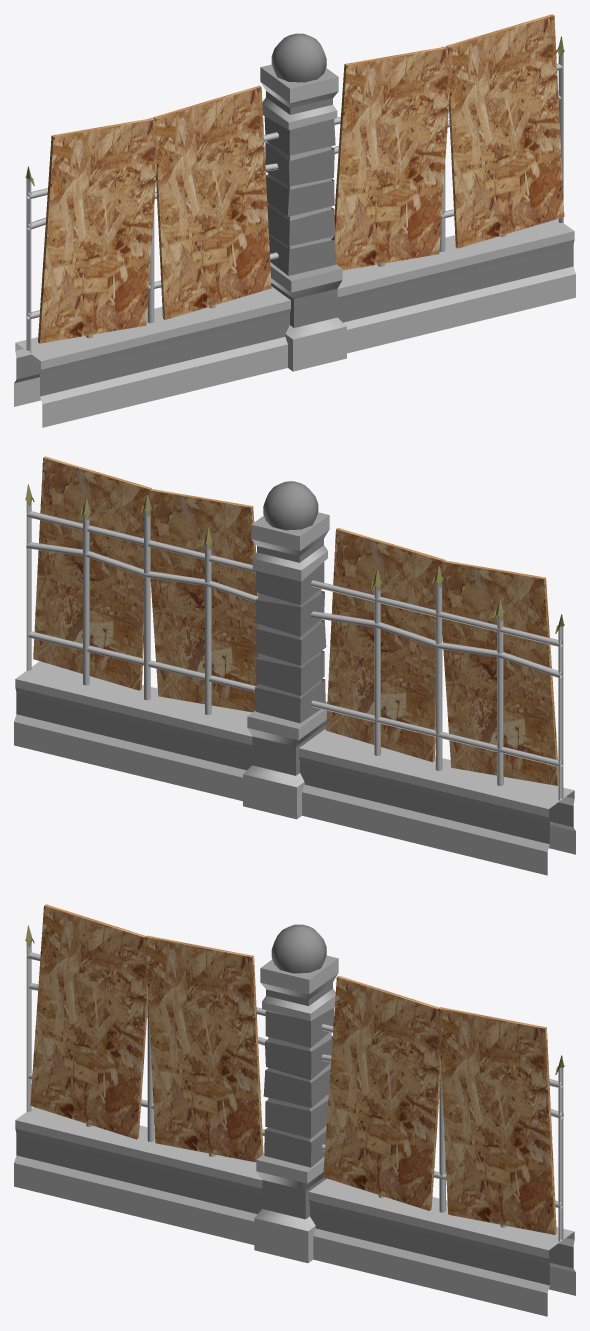
File: Fence_StraightStrong_Mod_01.fbx
3 renders of one model, top to bottom at view 1: azimuth 30°, elevation 25°; view 2: azimuth 150°, elevation 25°; view 3: azimuth 330°, elevation 25°, orthographic.
Visible parts, largest first — view 1: FenceStraightStrong; view 2: FenceStraightStrong; view 3: FenceStraightStrong.
Part boxes in pixels (x1,y1,x2,y2): FenceStraightStrong: (14, 14, 575, 427); FenceStraightStrong: (14, 456, 575, 875); FenceStraightStrong: (14, 904, 575, 1316).
Size of the model in its own units: 5 by 2.82 by 0.6284.
